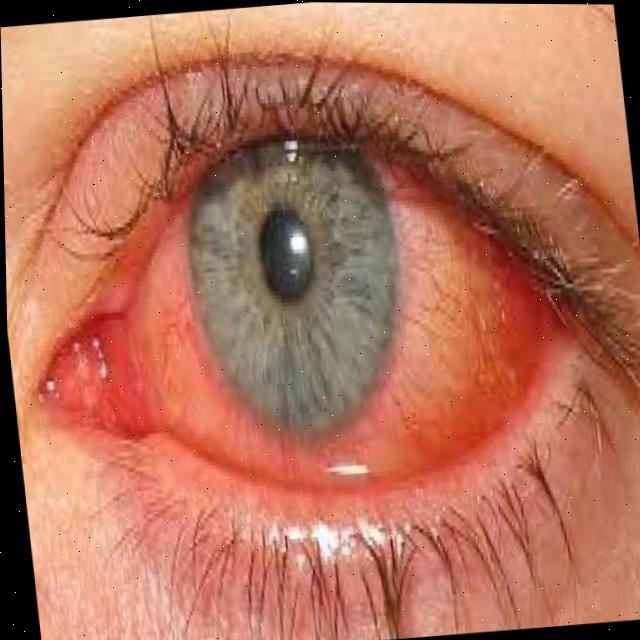Rosacea: (9, 73, 616, 546)
